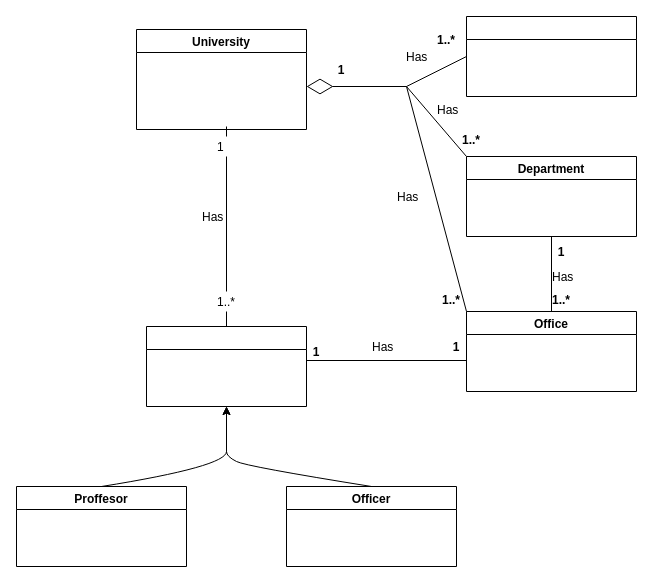
The diagram is 653 pixels wide and 583 high, and some of its shapes have lost their labels. The shapes that lost their labels are listed below. From the top down, each one's centre as x and y in pixels, then its label:
At [551,56]: "Classroom".
At [226,366]: "Employee".
